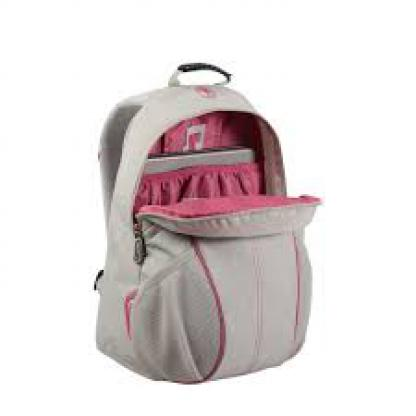morral: (76, 46, 349, 386)
